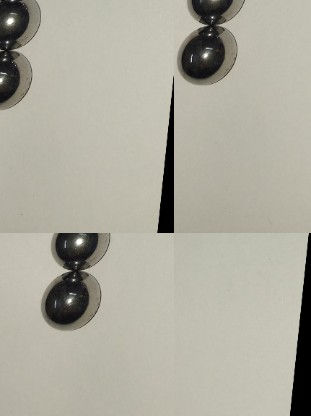ironball: (172, 25, 242, 85), (37, 270, 108, 328), (0, 0, 60, 53), (41, 233, 119, 269), (170, 0, 268, 28), (0, 43, 34, 103)
